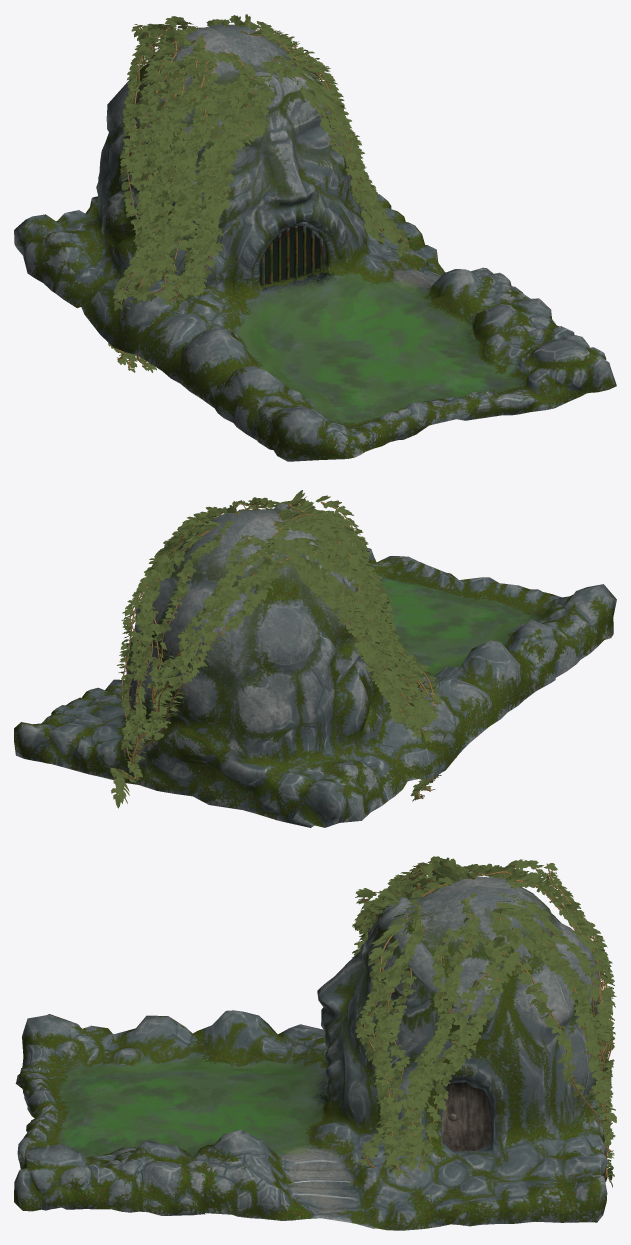
File: cave_fin.fbx
The picture shows the model from 3 angles, top to bottom: view 1: azimuth 30°, elevation 25°; view 2: azimuth 150°, elevation 25°; view 3: azimuth 270°, elevation 25°; orthographic projection. The views are drawn at different scales.
Parts seen in each view (by area): view 1: cave_low, ivy; view 2: cave_low, ivy; view 3: cave_low, ivy.
Boxes of the visible parts, box(x1,y1,x2,y2) form: cave_low: box(14, 24, 616, 461); ivy: box(107, 14, 412, 372); cave_low: box(14, 503, 616, 827); ivy: box(110, 490, 456, 808); cave_low: box(14, 876, 611, 1230); ivy: box(352, 856, 616, 1187).
Bounding box in the file's own units: 271 × 214 × 408.
